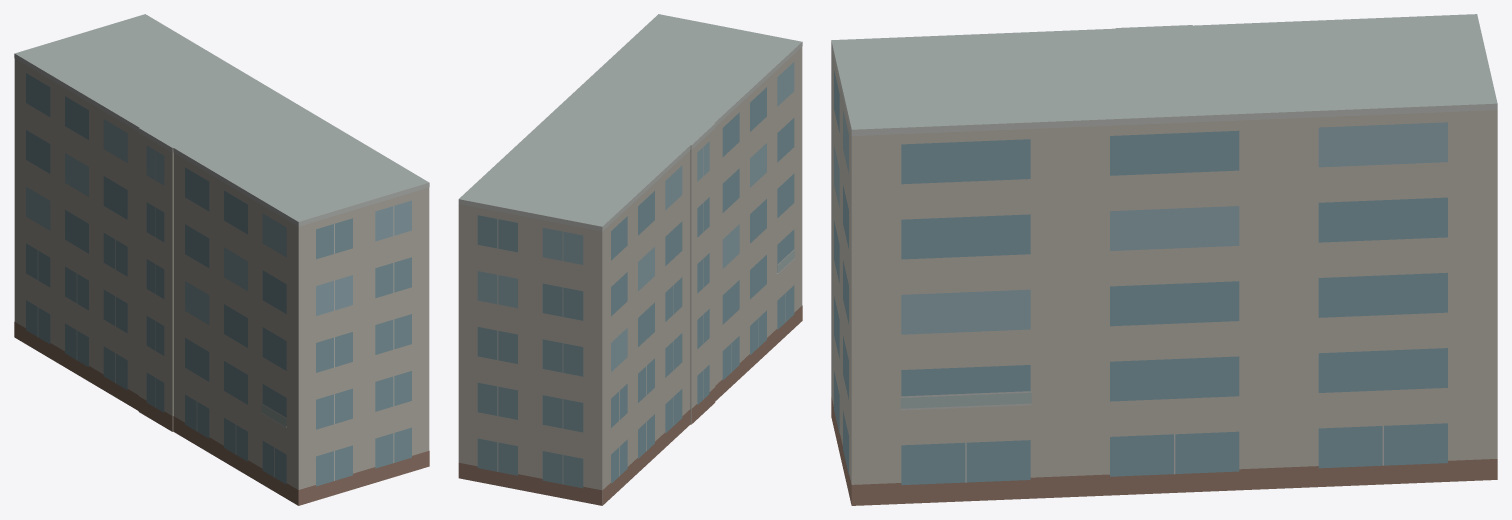
The model's file is survey-upis-32608223.glb.
3 views of the same model, side by side, from view 1: azimuth 30°, elevation 25°; view 2: azimuth 150°, elevation 25°; view 3: azimuth 270°, elevation 25° (orthographic). The views are drawn at different scales.
Visible parts, largest first — view 1: survey-upis-32608223.tmp; view 2: survey-upis-32608223.tmp; view 3: survey-upis-32608223.tmp.
Boxes of the visible parts, box(x1,y1,x2,y2) form: survey-upis-32608223.tmp: box(14, 14, 429, 505); survey-upis-32608223.tmp: box(458, 14, 802, 505); survey-upis-32608223.tmp: box(831, 14, 1497, 505).
Size of the model in its own units: 9.58 by 14.5 by 23.29.
